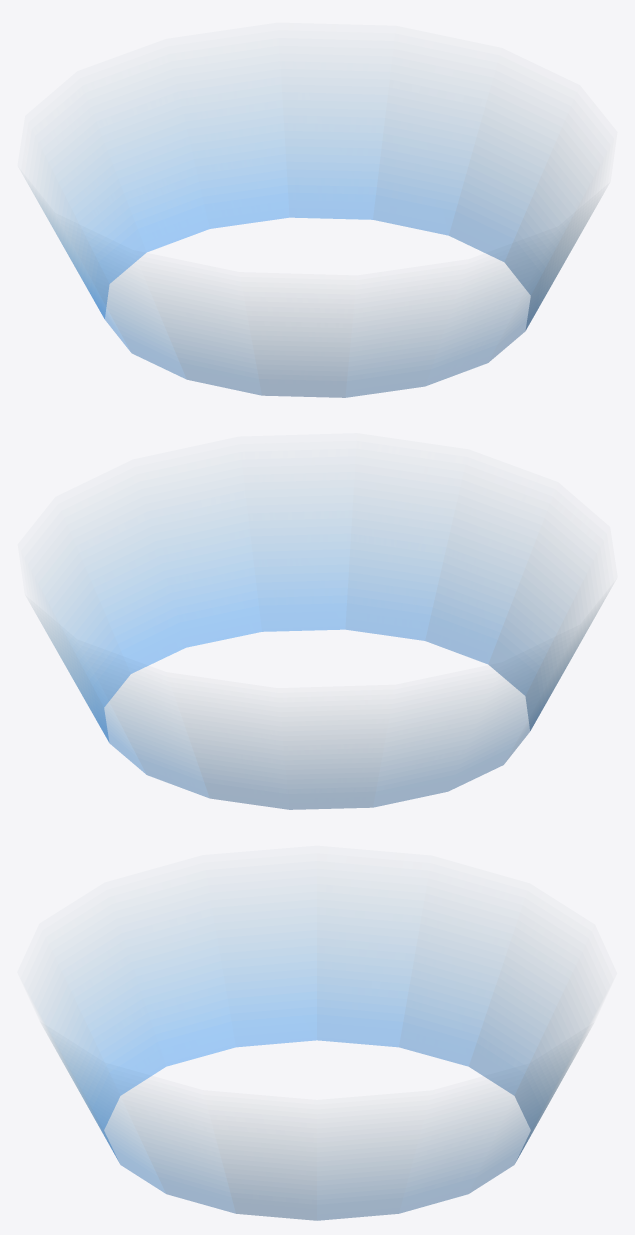
File: PelagicIIExploration_Alpha_151.glb
3 views of the same model, one above another, from view 1: azimuth 30°, elevation 25°; view 2: azimuth 150°, elevation 25°; view 3: azimuth 270°, elevation 25° (orthographic).
Parts seen in each view (by area): view 1: PelagicIIExploration_Alpha_151; view 2: PelagicIIExploration_Alpha_151; view 3: PelagicIIExploration_Alpha_151.
Part boxes in pixels (left/top/right/bottom): PelagicIIExploration_Alpha_151: left=31, top=84, right=597, bottom=397; PelagicIIExploration_Alpha_151: left=37, top=495, right=603, bottom=809; PelagicIIExploration_Alpha_151: left=45, top=907, right=589, bottom=1220.
Bounding box in the file's own units: 101 × 30.13 × 101.
Materials: 1 (1 with a texture image).
